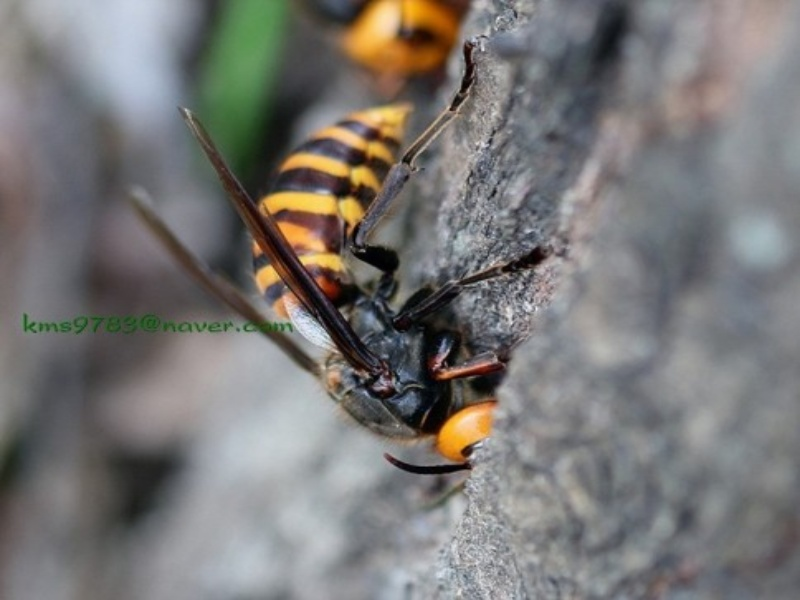asian_giant_hornet: (245, 104, 550, 477), (332, 2, 493, 90)
